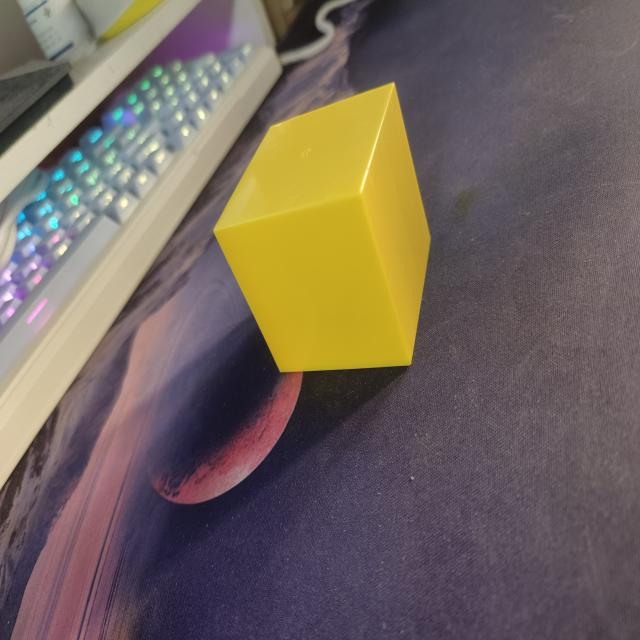yellow: (212, 79, 436, 378)
